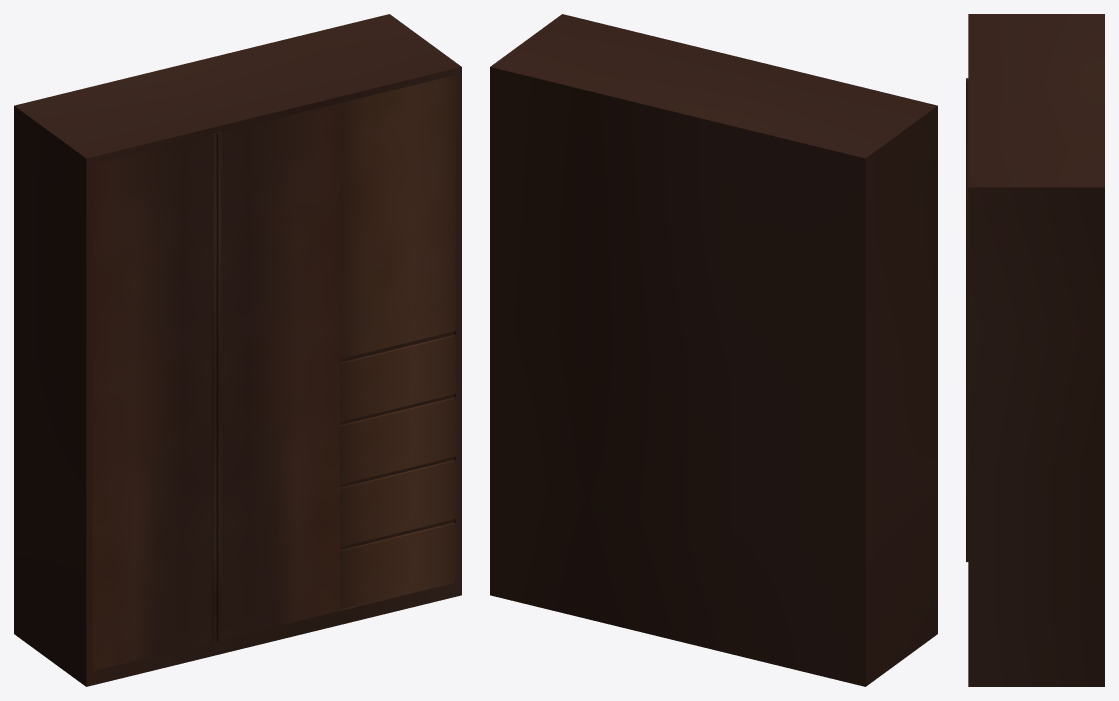
File: Wardrobe.FBX
The picture shows the model from 3 angles, left to right: view 1: azimuth 30°, elevation 25°; view 2: azimuth 150°, elevation 25°; view 3: azimuth 270°, elevation 25°; orthographic projection. The views are drawn at different scales.
Parts seen in each view (by area): view 1: Tu ao; view 2: Tu ao; view 3: Tu ao.
Part boxes in pixels (x1,y1,x2,y2): Tu ao: (14,14,461,686); Tu ao: (490,14,937,686); Tu ao: (966,14,1104,686).
Bounding box in the file's own units: 70.99 × 95.44 × 24.06.
